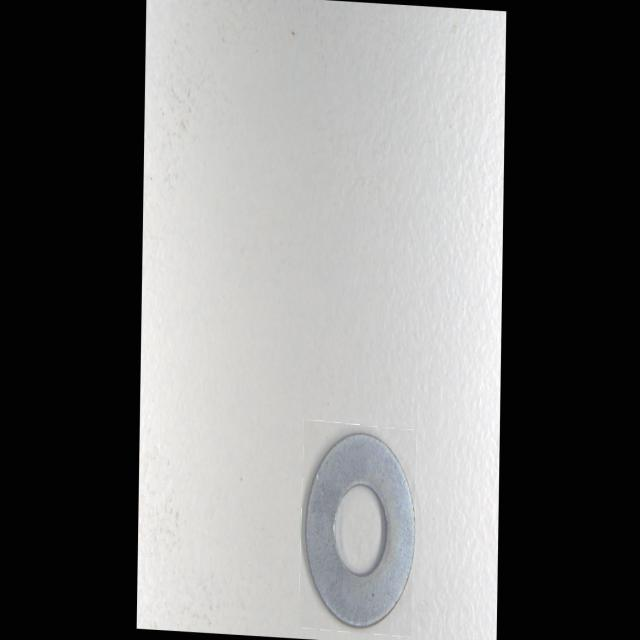washer: (300, 424, 414, 632)
